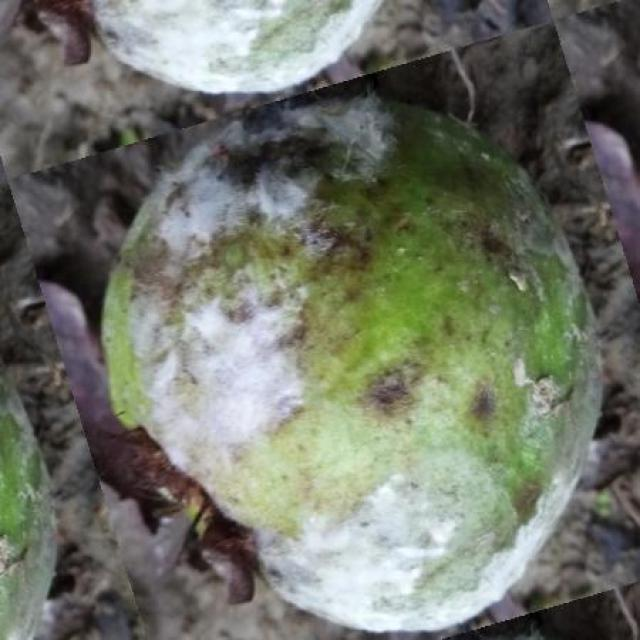Phytopthora: (104, 94, 599, 629), (94, 1, 381, 93)
